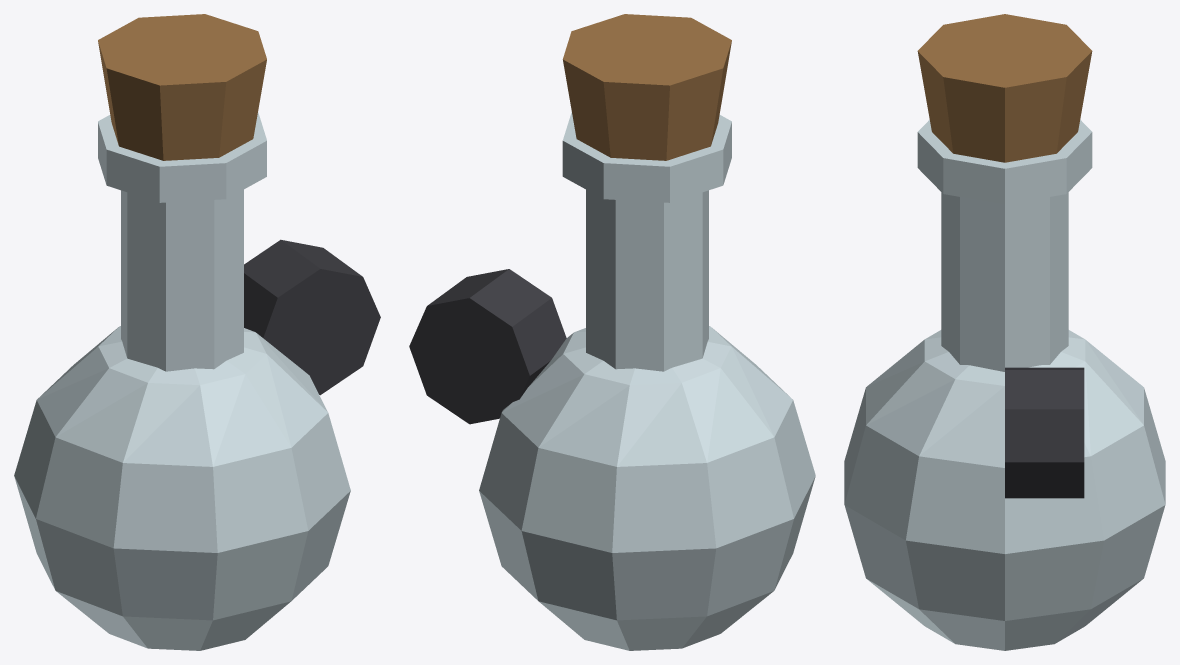
Rendered from vfem2_draught_amnesia.obj.
The picture shows the model from 3 angles, left to right: view 1: azimuth 30°, elevation 25°; view 2: azimuth 150°, elevation 25°; view 3: azimuth 270°, elevation 25°; orthographic projection.
Visible parts, largest first — view 1: vfem2_draught_amnesia; view 2: vfem2_draught_amnesia; view 3: vfem2_draught_amnesia.
Boxes of the visible parts, <box> form: vfem2_draught_amnesia: <box>14,14,380,650</box>; vfem2_draught_amnesia: <box>409,14,815,650</box>; vfem2_draught_amnesia: <box>844,14,1165,650</box>.
Bounding box in the file's own units: 0.2 × 0.325 × 0.1617.
